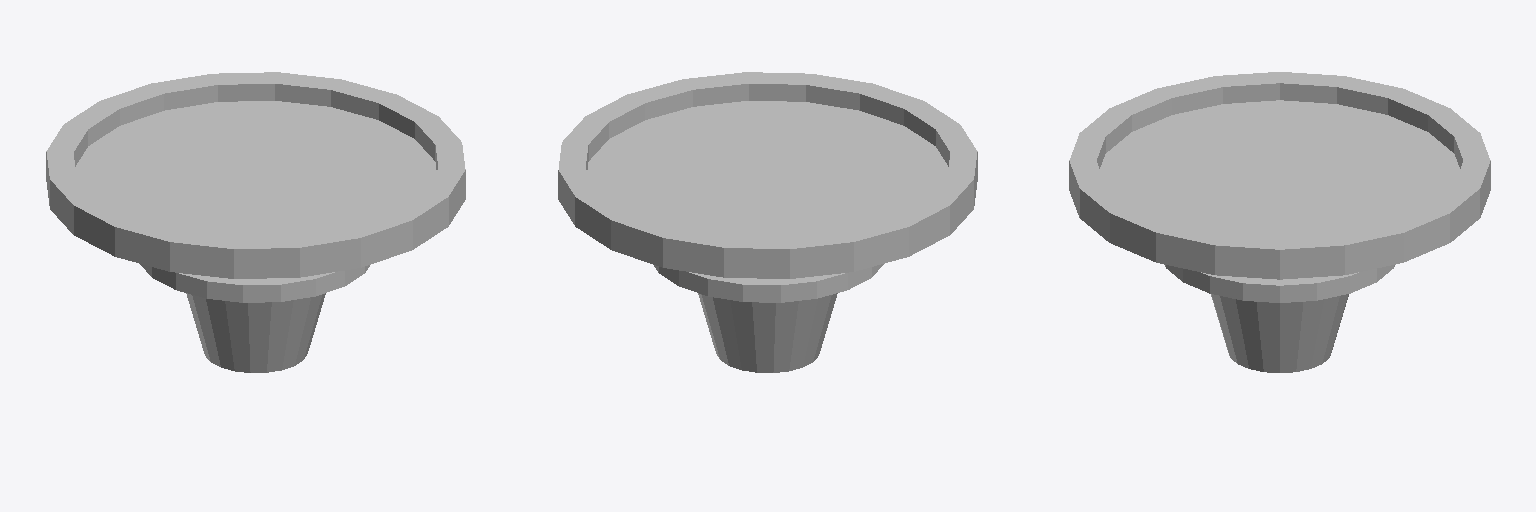
Rendered from Cage_Spaceship_01.obj.
The picture shows the model from 3 angles: view 1: azimuth 30°, elevation 25°; view 2: azimuth 150°, elevation 25°; view 3: azimuth 270°, elevation 25°; orthographic projection.
Parts seen in each view (by area): view 1: pCylinder1; view 2: pCylinder1; view 3: pCylinder1.
Boxes of the visible parts, box(x1,y1,x2,y2) form: pCylinder1: box(46, 72, 465, 372); pCylinder1: box(558, 72, 977, 372); pCylinder1: box(1069, 72, 1490, 372).
Size of the model in its own units: 2 by 0.9985 by 2.